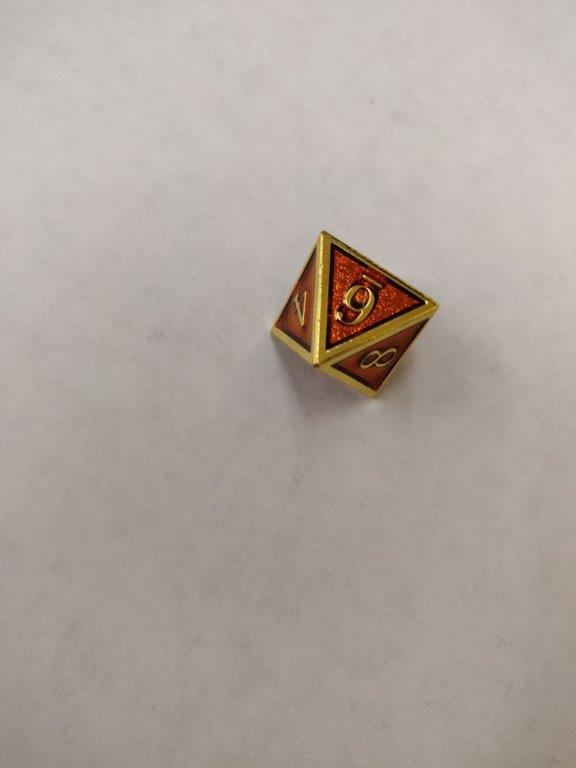d8-6: (266, 226, 440, 398)
